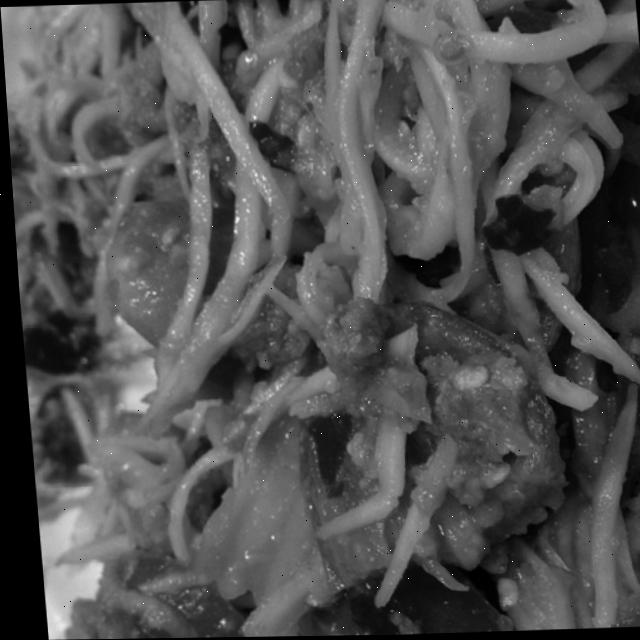蔬菜料理: (3, 0, 640, 623)
